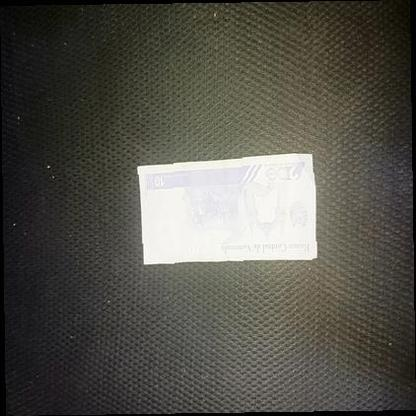ten-back-vef: (137, 153, 319, 263)
